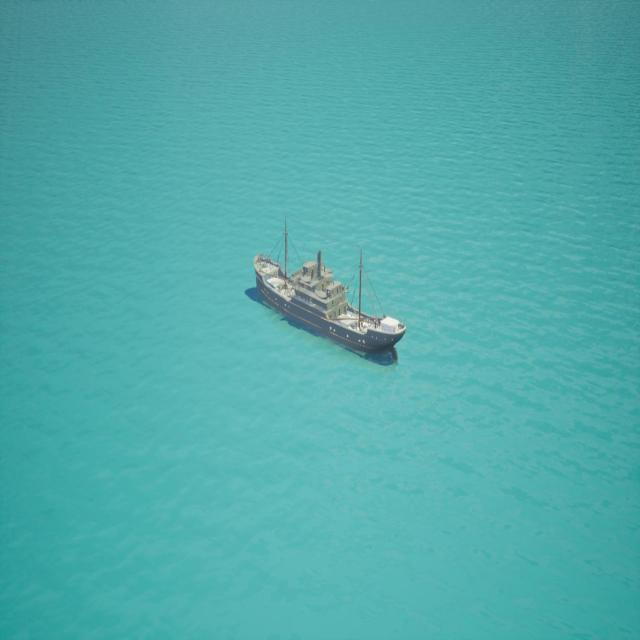fishing ship: (247, 228, 406, 365)
